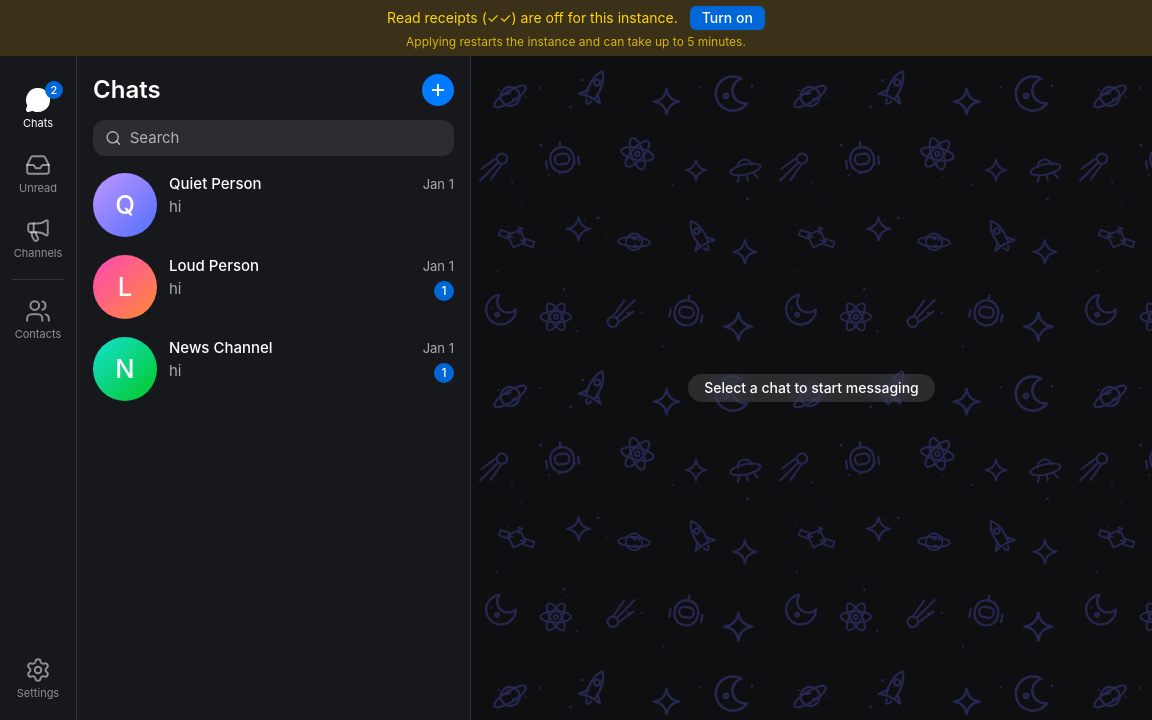
rail sections › Unread and Channels sections filter the chat list
Click the button "Unread": [38, 174] box [4,145,72,203]
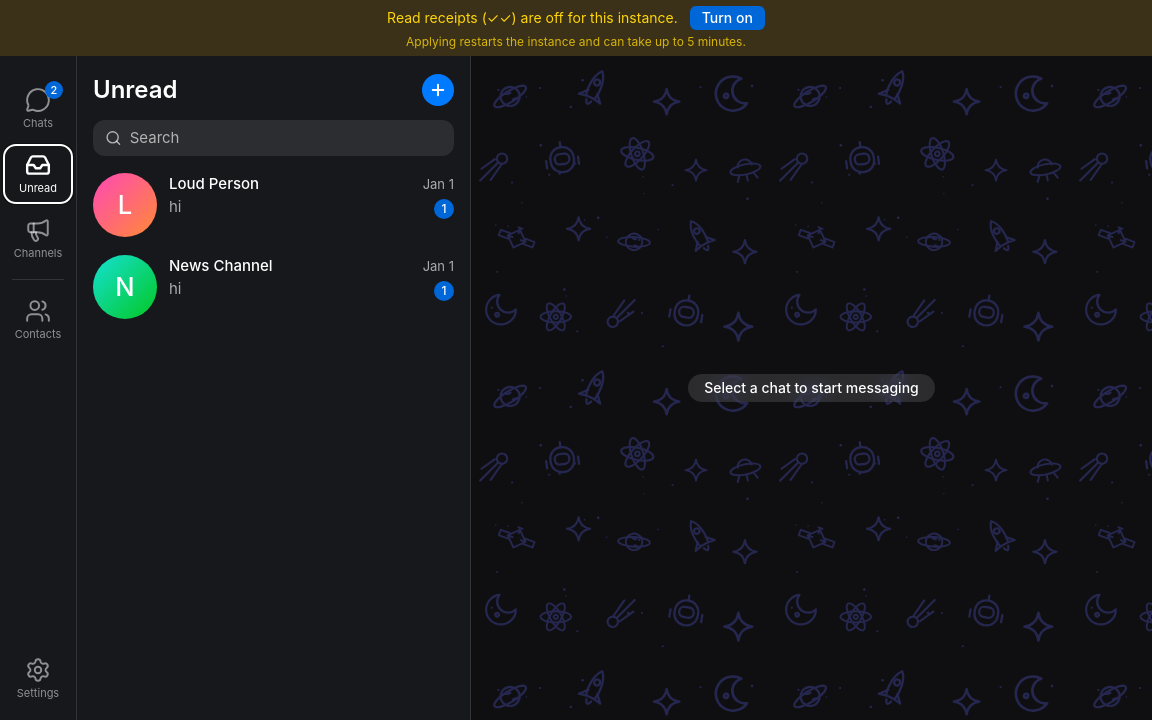
Expected: the text "Loud Person" is shown, [169,174,259,194]
Expected: the button "Quiet Person" is gone
Click the button "Channels": [38, 239] box [4,210,72,268]
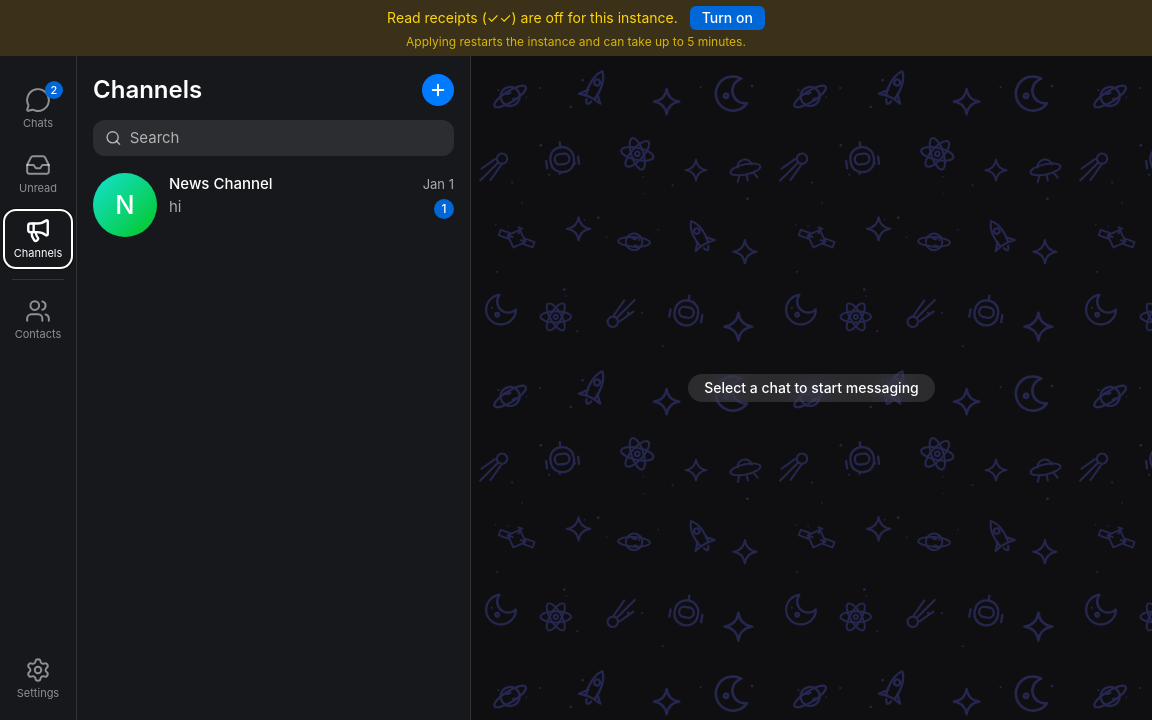
Expected: the text "News Channel" is shown, [169,174,273,194]
Expected: the button "Loud Person" is gone
